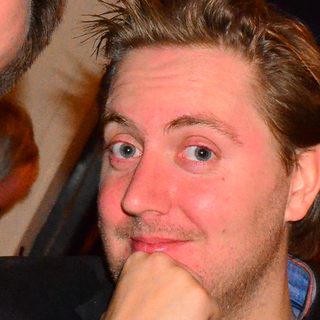eye: (179, 141, 223, 166), (107, 139, 144, 163)
